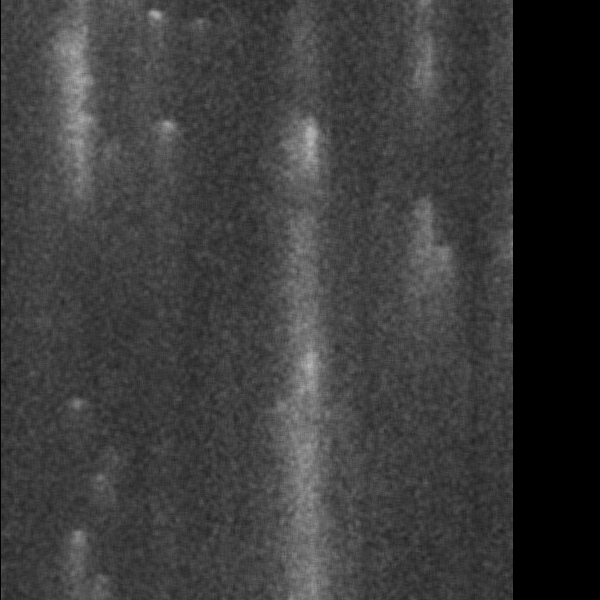spark: (364, 238, 475, 324), (288, 335, 337, 502), (44, 26, 96, 149), (278, 112, 338, 207), (58, 523, 93, 599), (155, 114, 181, 173), (141, 2, 166, 40), (59, 395, 89, 419), (291, 18, 310, 55), (91, 465, 108, 505)
